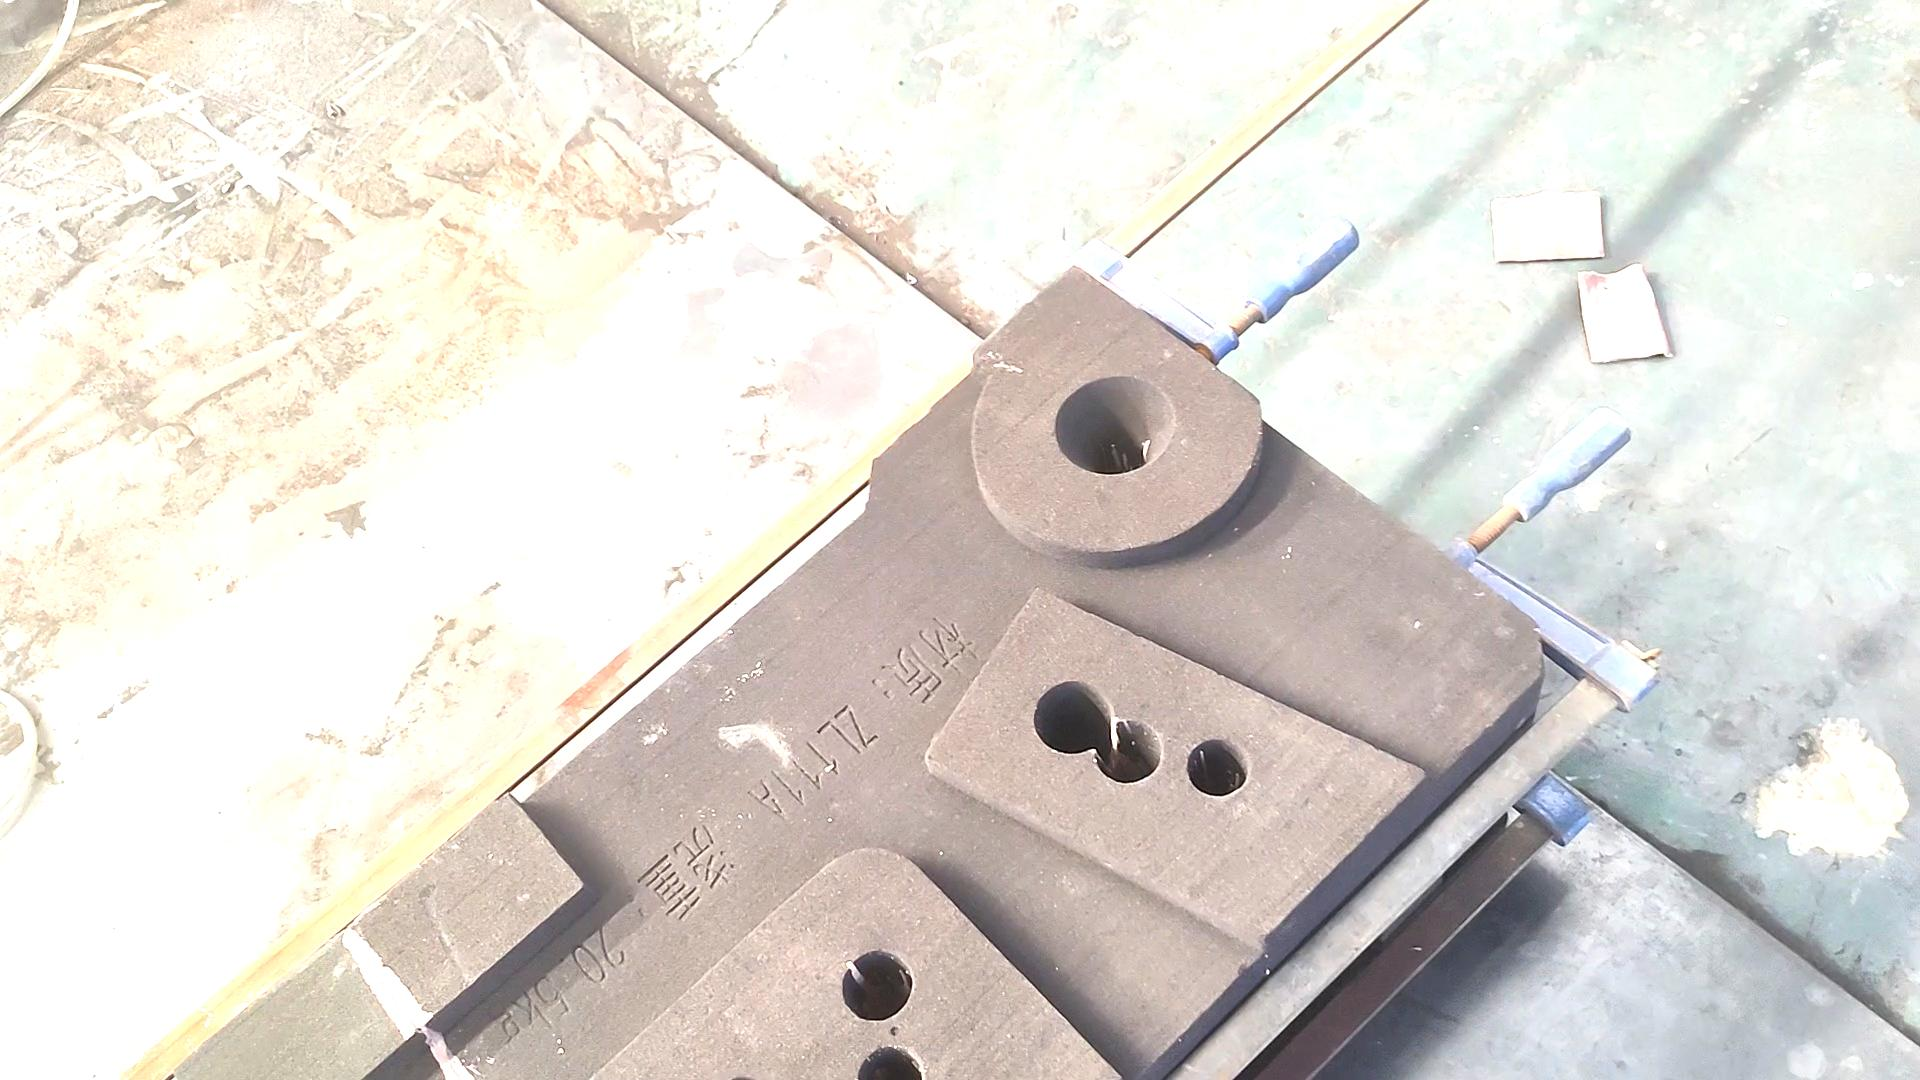pouring hole: (1054, 375, 1176, 473)
